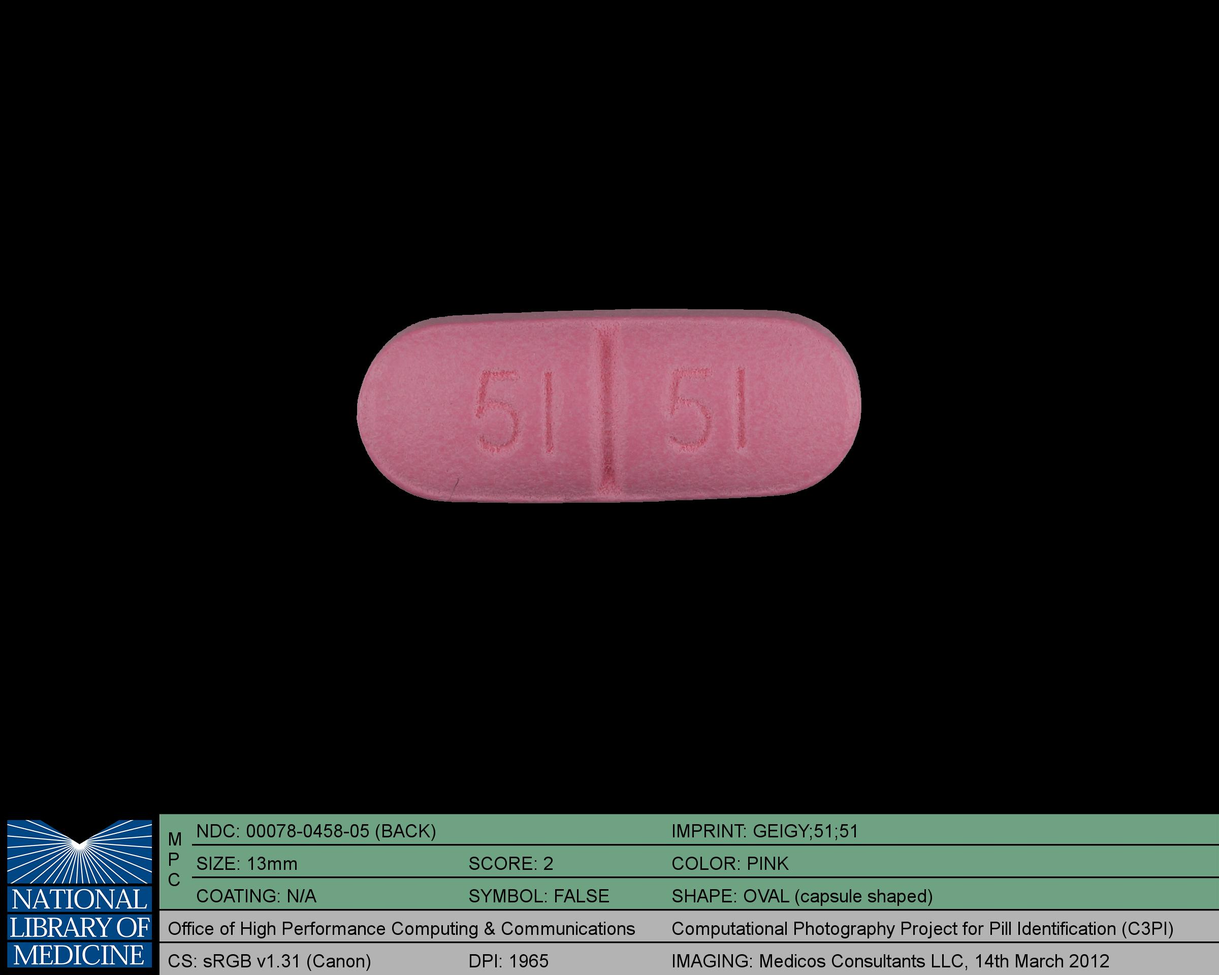Pill: (345, 295, 870, 515)
